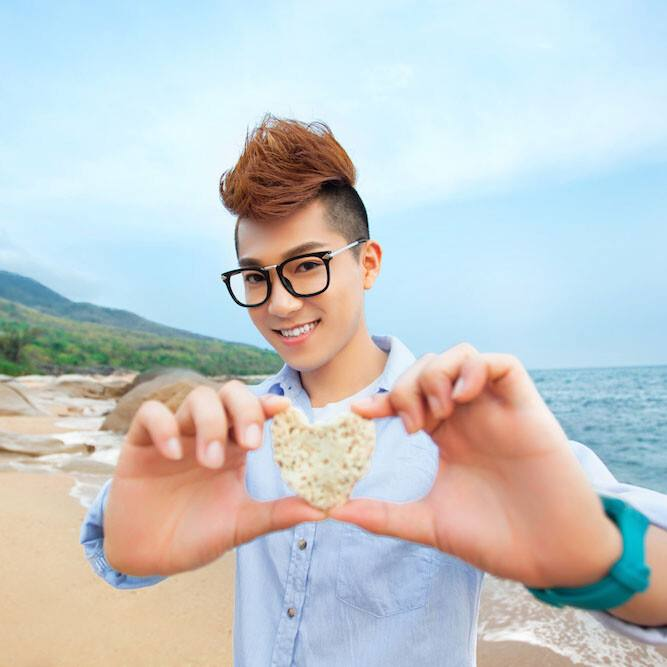person: (101, 126, 566, 659)
